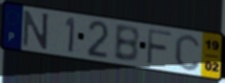1: (64, 16, 76, 55)
2: (87, 20, 111, 60)
B: (112, 24, 141, 64)
C: (174, 33, 202, 73)
F: (145, 27, 173, 67)
N: (21, 9, 50, 51)
